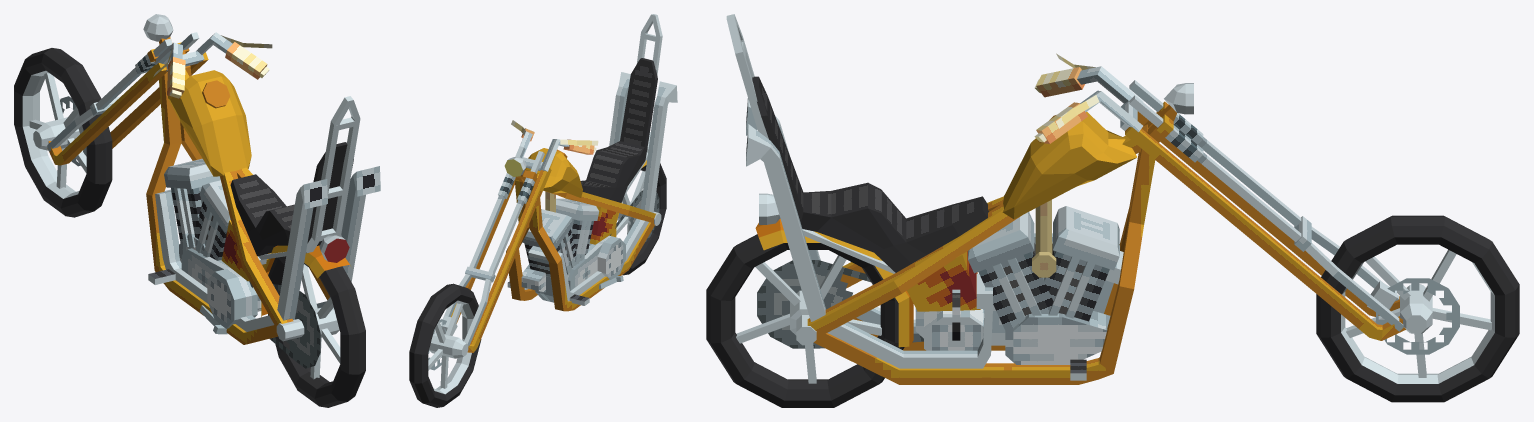
3 renders of one model, left to right at view 1: azimuth 30°, elevation 25°; view 2: azimuth 150°, elevation 25°; view 3: azimuth 270°, elevation 25°, orthographic. The views are drawn at different scales.
Parts seen in each view (by area): view 1: cuboid (×12), torus (×2), cylinder (×5), plane, seat, under_left, front_arm_left (×2), top_left, chain, front_arm_right, spark_board, hand_grip_right (+7 smaller); view 2: cuboid (×9), torus (×2), seat, cylinder (×5), front_arm_left (×2), under_left, front_arm_right (×2), plane, under_right, top_left, cube, chain (+4 smaller); view 3: torus (×2), cuboid (×7), seat, cylinder (×5), under_right, front_arm_right (×2), plane, front_arm_left (×2), top_right, chain, cube, spark_board (+7 smaller).
Part boxes in pixels (box(x1,y1,x2,y2)): cuboid (×12): box(44, 73, 380, 331); torus (×2): box(14, 48, 365, 407); cylinder (×5): box(33, 80, 339, 341); plane: box(168, 70, 251, 176); seat: box(230, 142, 353, 256); under_left: box(146, 61, 277, 344); front_arm_left (×2): box(47, 38, 172, 165); top_left: box(220, 171, 293, 327); chain: box(249, 281, 320, 368); front_arm_right: box(110, 52, 208, 148); spark_board: box(261, 245, 350, 316); hand_grip_right: box(225, 42, 267, 79); cuboid (×9): box(445, 14, 677, 335); torus (×2): box(409, 163, 666, 407); seat: box(580, 58, 657, 202); cylinder (×5): box(429, 235, 625, 358); front_arm_left (×2): box(464, 151, 551, 352); under_left: box(523, 178, 654, 311); front_arm_right (×2): box(441, 146, 525, 323); plane: box(525, 148, 582, 197); under_right: box(506, 177, 537, 300); top_left: box(566, 192, 655, 223); cube: box(590, 206, 618, 244); chain: box(609, 190, 659, 241); torus (×2): box(706, 215, 1519, 407); cuboid (×7): box(726, 14, 1119, 368); seat: box(752, 76, 988, 272); cylinder (×5): box(790, 199, 1432, 364); under_right: box(814, 124, 1163, 384); front_arm_right (×2): box(1125, 95, 1405, 340); plane: box(1002, 112, 1137, 219); front_arm_left (×2): box(1129, 80, 1399, 316); top_right: box(807, 124, 1148, 336); chain: box(757, 260, 923, 348); cube: box(907, 251, 980, 311); spark_board: box(755, 218, 913, 347).
Size of the model in its own units: 1.27 by 3.32 by 6.25.
Materials: 1 (1 with a texture image).
